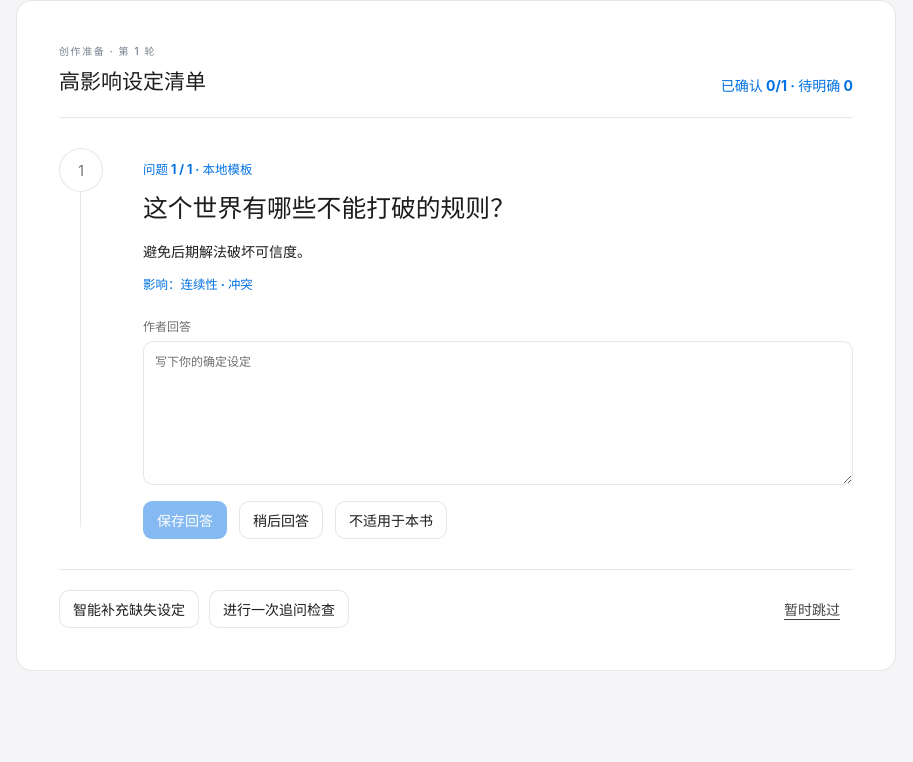
Test case: preserves the author's draft when saving fails
Step 1. Type "魔法必然消耗寿命" into the text box labelled "作者回答" → point(498, 413), box [143, 341, 853, 485]
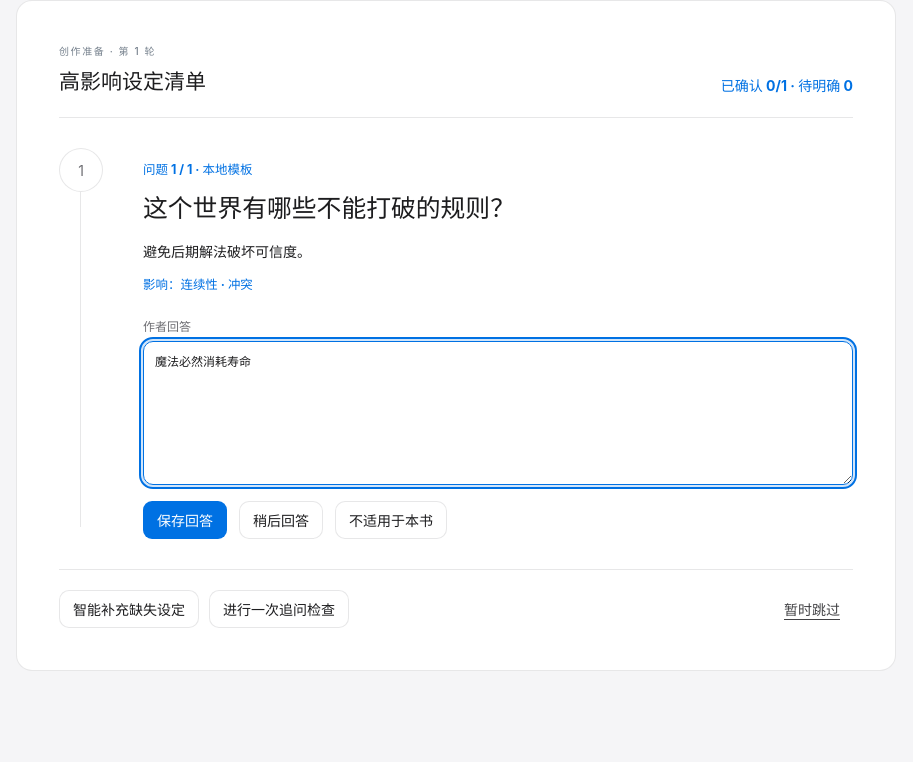
Step 2. Click the button "保存回答" → point(185, 520), box [143, 501, 227, 539]
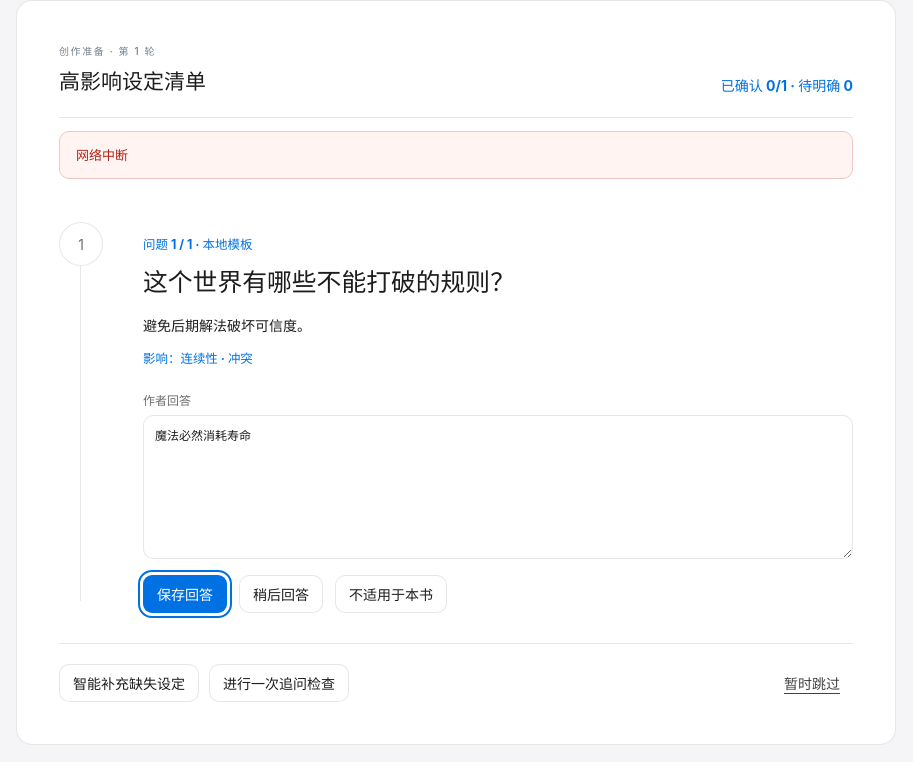
Check: the message "网络中断" is shown, box [59, 131, 853, 179]
